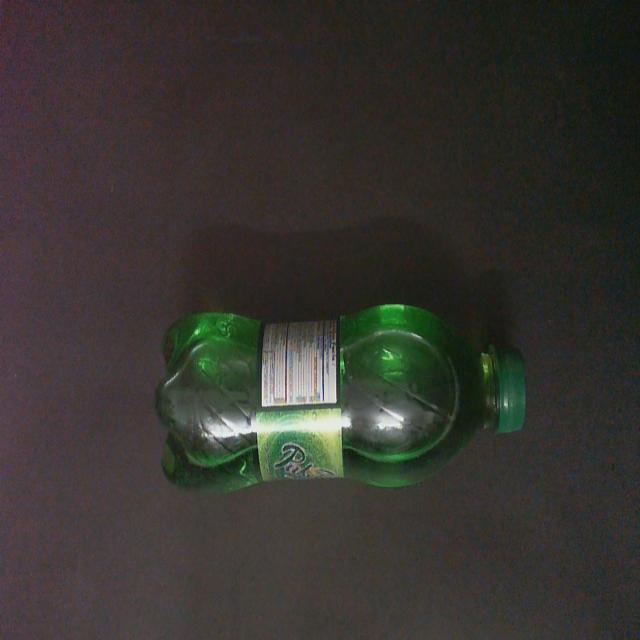non-defect: (152, 296, 530, 501)
